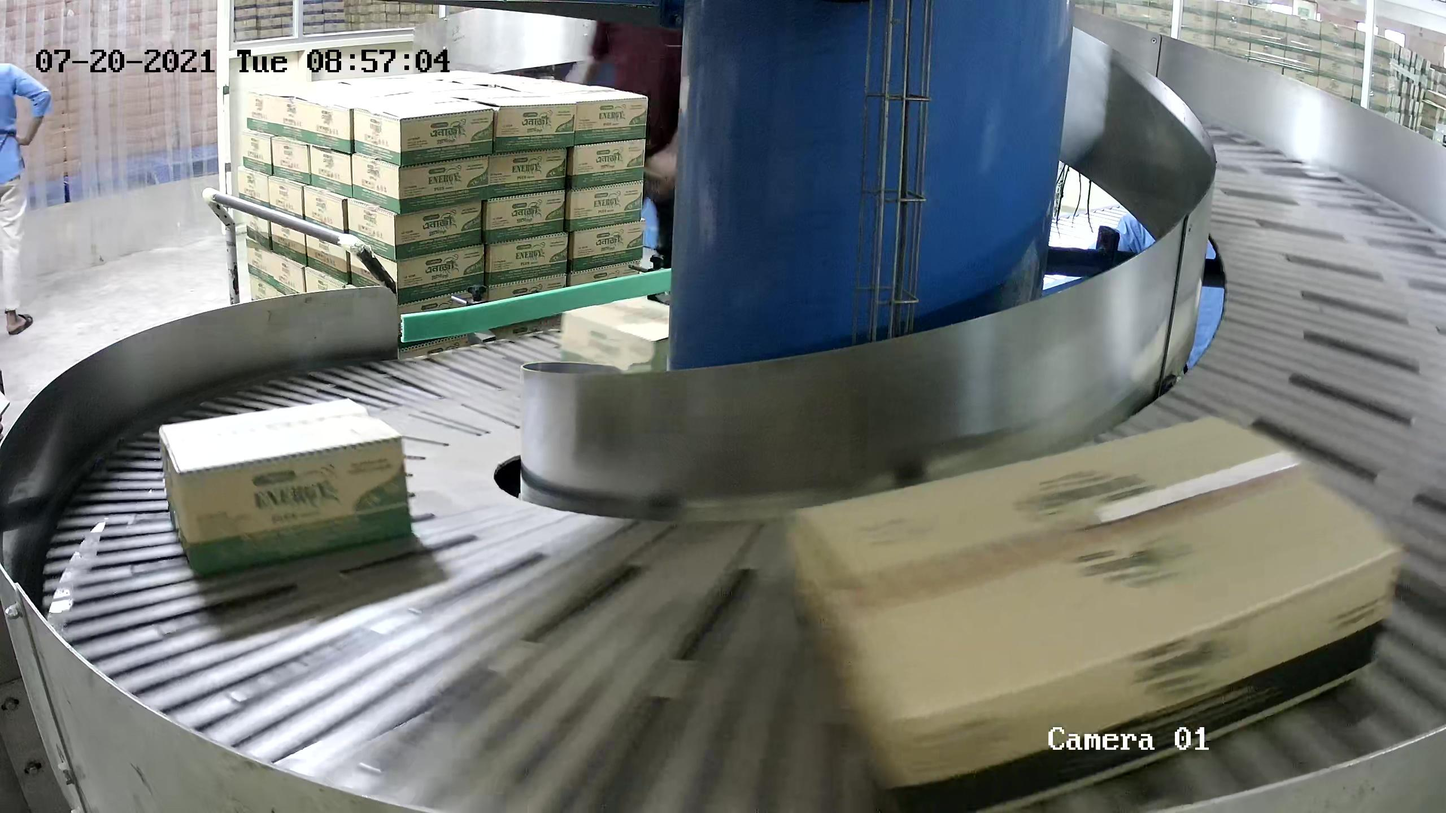Box: (785, 411, 1401, 813), (159, 398, 417, 577), (558, 296, 702, 392)
